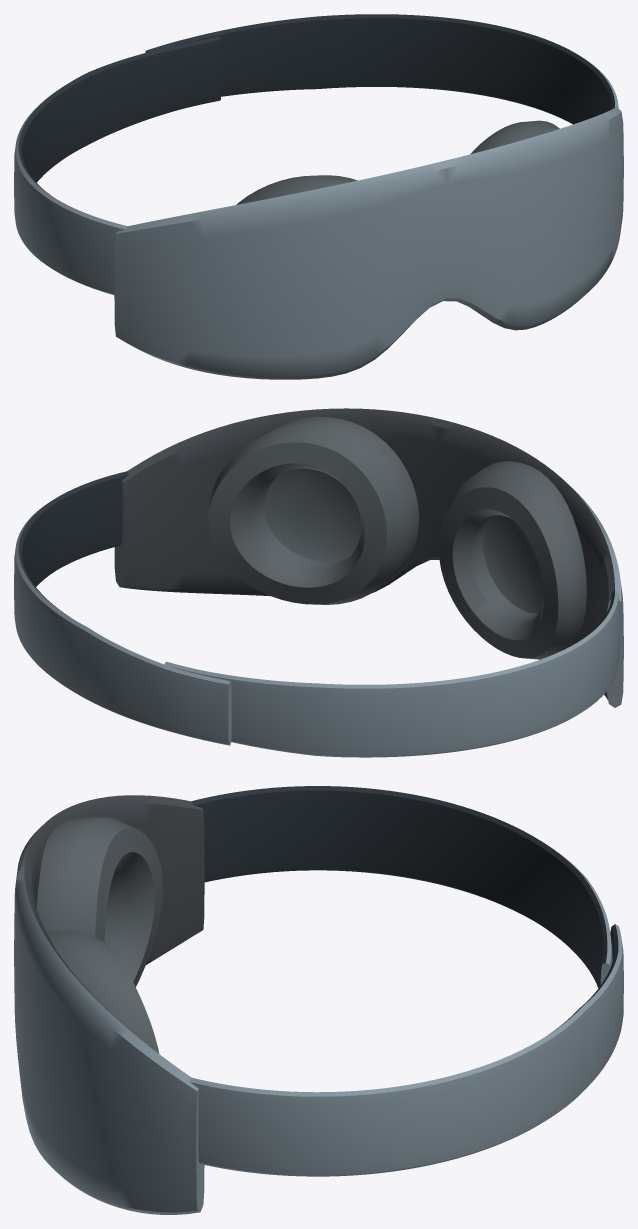
3 renders of one model, top to bottom at view 1: azimuth 30°, elevation 25°; view 2: azimuth 150°, elevation 25°; view 3: azimuth 270°, elevation 25°, orthographic. The views are drawn at different scales.
Visible parts, largest first — view 1: Padded_closed_two_eye_front_with_nose_relief, Right_continuous_wrap_strap_with_overlap_end, Left_continuous_wrap_strap_with_overlap_end, Left_closed_recessed_contact_cup, Right_closed_recessed_contact_cup; view 2: Padded_closed_two_eye_front_with_nose_relief, Right_closed_recessed_contact_cup, Left_continuous_wrap_strap_with_overlap_end, Left_closed_recessed_contact_cup, Right_continuous_wrap_strap_with_overlap_end; view 3: Padded_closed_two_eye_front_with_nose_relief, Right_continuous_wrap_strap_with_overlap_end, Left_continuous_wrap_strap_with_overlap_end, Left_closed_recessed_contact_cup, Right_closed_recessed_contact_cup.
Part boxes in pixels (x1,y1,x2,y2): Padded_closed_two_eye_front_with_nose_relief: (114,107,623,379); Right_continuous_wrap_strap_with_overlap_end: (145,14,618,124); Left_continuous_wrap_strap_with_overlap_end: (14,36,221,294); Left_closed_recessed_contact_cup: (236,175,357,204); Right_closed_recessed_contact_cup: (470,120,559,154); Padded_closed_two_eye_front_with_nose_relief: (114,408,623,707); Right_closed_recessed_contact_cup: (208,416,418,604); Left_continuous_wrap_strap_with_overlap_end: (164,590,619,757); Left_closed_recessed_contact_cup: (438,461,586,659); Right_continuous_wrap_strap_with_overlap_end: (14,471,231,745); Padded_closed_two_eye_front_with_nose_relief: (14,795,204,1214); Right_continuous_wrap_strap_with_overlap_end: (190,924,623,1176); Left_continuous_wrap_strap_with_overlap_end: (191,786,612,987); Left_closed_recessed_contact_cup: (37,817,162,987); Right_closed_recessed_contact_cup: (46,931,159,1053).
Bounding box in the file's own units: 0.2132 × 0.0736 × 0.1768.
